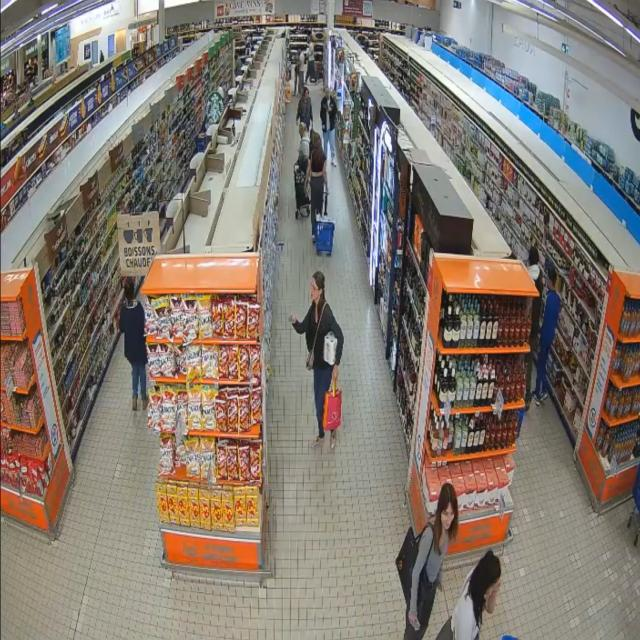article: (323, 331, 337, 366)
bags: (396, 525, 429, 606), (306, 304, 326, 370), (323, 383, 341, 430), (436, 617, 454, 639)
hands: (408, 613, 420, 631), (332, 365, 338, 385), (495, 578, 502, 592), (290, 315, 298, 324), (437, 581, 443, 591), (306, 179, 310, 193), (325, 182, 329, 195), (328, 104, 332, 113), (310, 120, 313, 131), (296, 118, 299, 125)
person: (291, 272, 343, 446), (405, 483, 458, 639), (437, 551, 501, 639), (533, 265, 561, 405), (119, 278, 147, 410), (525, 246, 543, 410), (307, 132, 328, 241), (321, 88, 337, 165), (297, 86, 313, 130), (299, 123, 310, 172)
